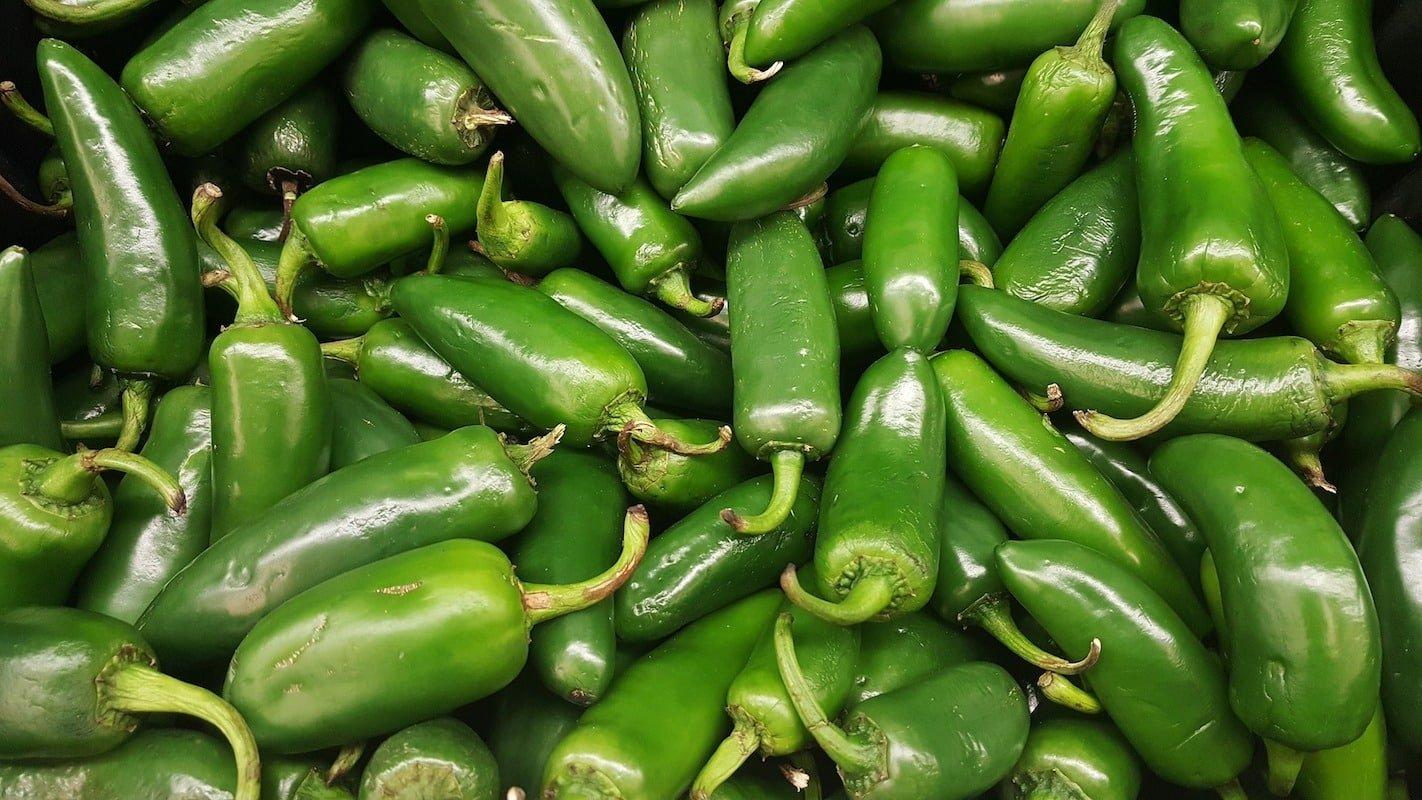jalepeno: (2, 0, 1417, 797), (220, 502, 649, 755), (132, 420, 544, 675), (1071, 13, 1291, 441), (953, 279, 1418, 448), (1146, 430, 1383, 751), (33, 34, 206, 379), (188, 180, 333, 542), (386, 269, 651, 449), (779, 344, 948, 625), (722, 208, 843, 535), (859, 141, 961, 352)
